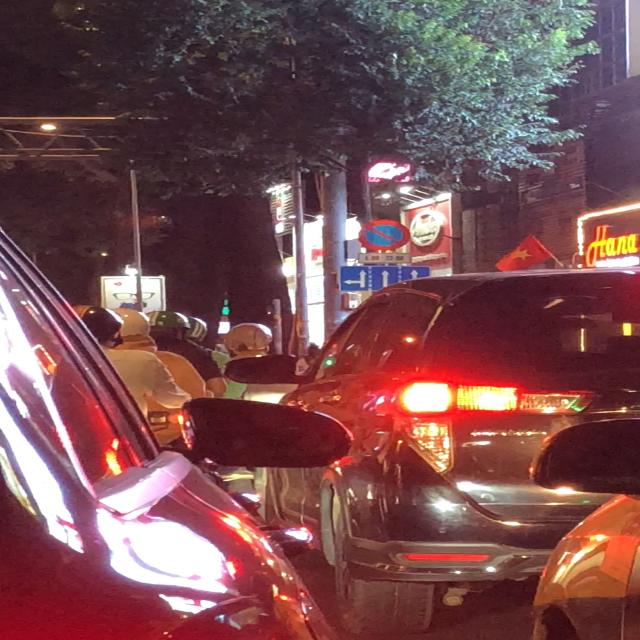Bien bao cam do xe: (353, 218, 410, 252)
